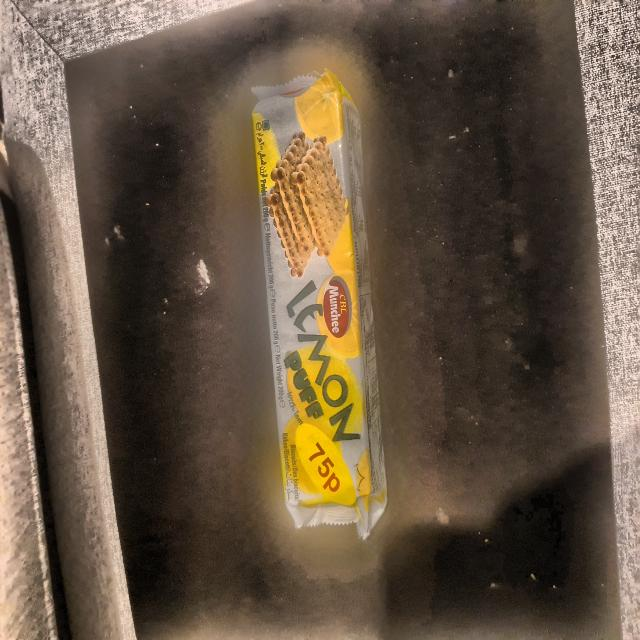lemon puff: (252, 80, 382, 532)
